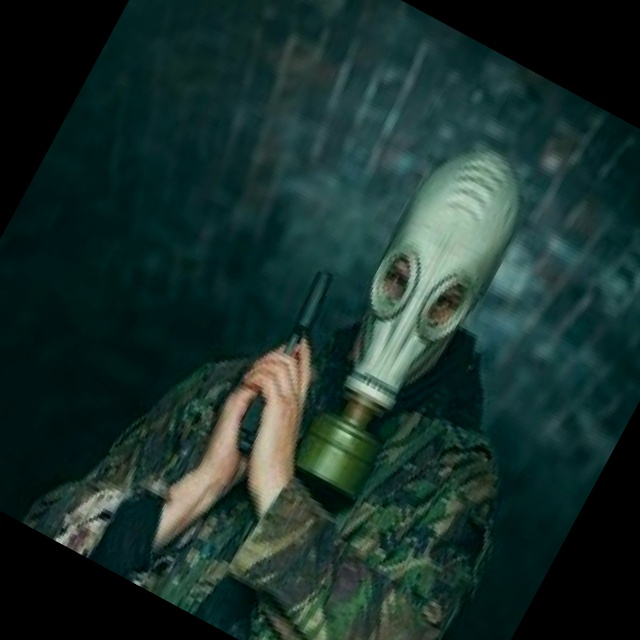gun: (195, 244, 373, 488)
